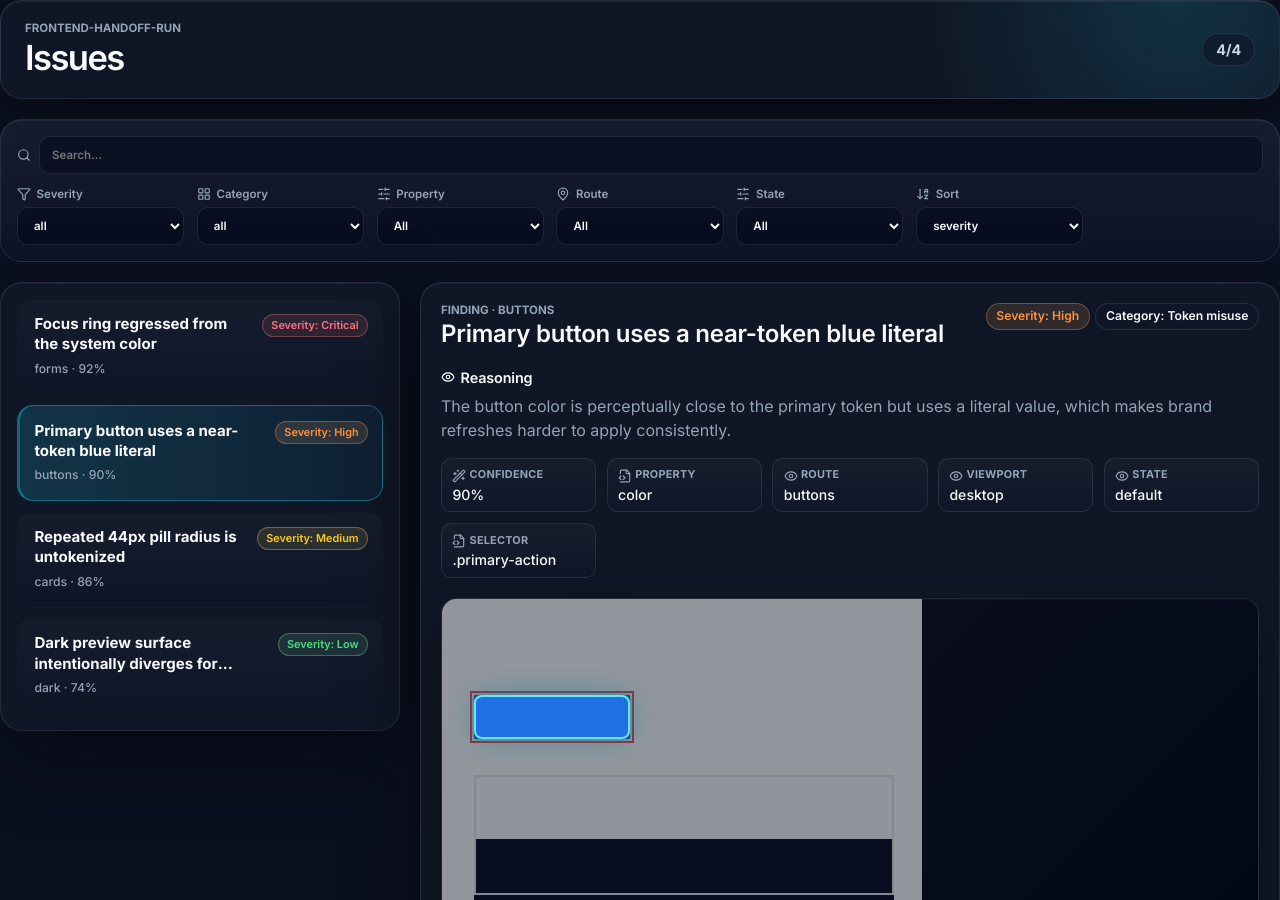
Test: IssueWorkbench › updates a stale selected issue param when filters hide it
Select "low" in the dropdown labelled "Severity" at {"x": 100, "y": 226}, box [17,207,184,245]
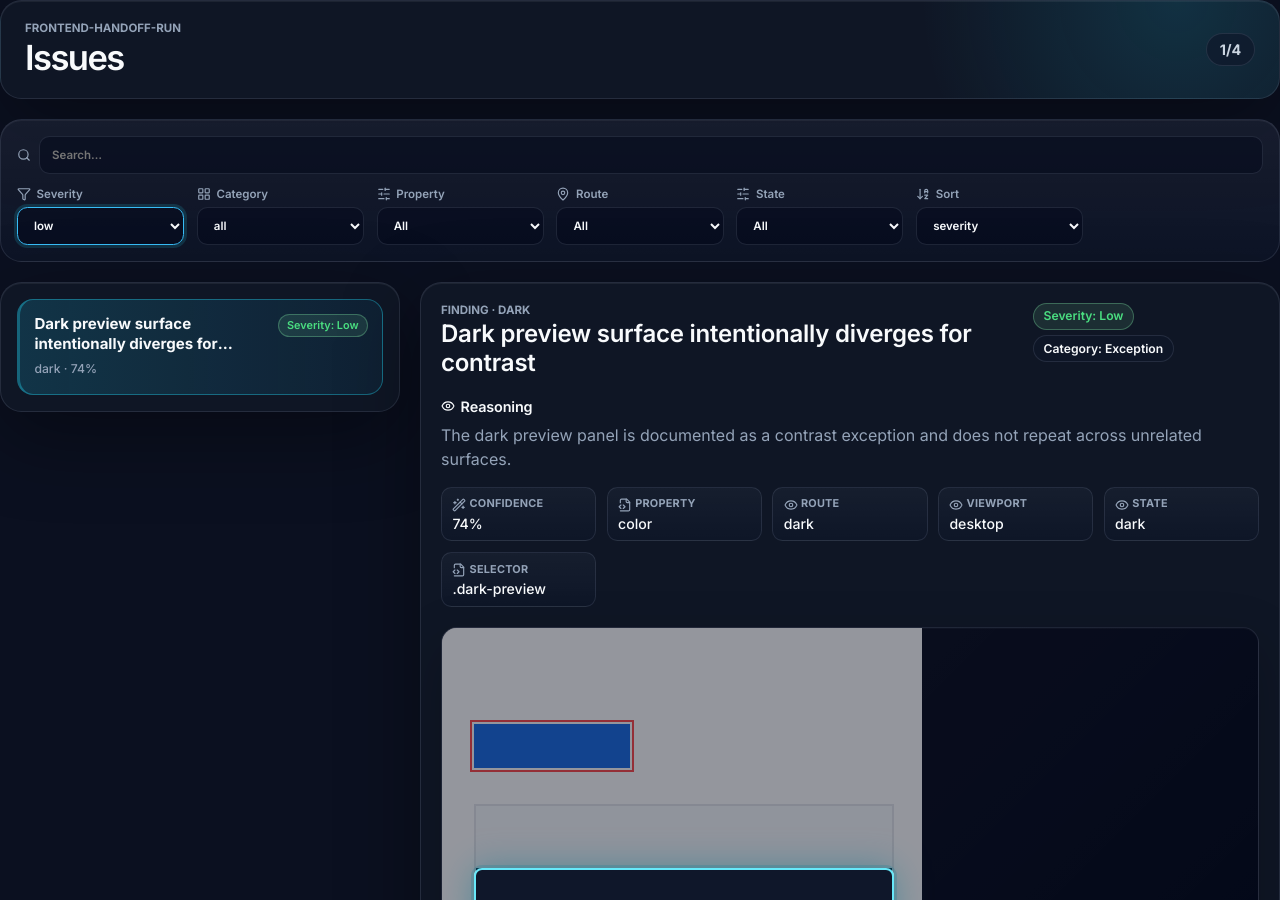
Now the heading "Dark preview surface intentionally diverges for contrast" is shown, box [441,319,1017,377]
